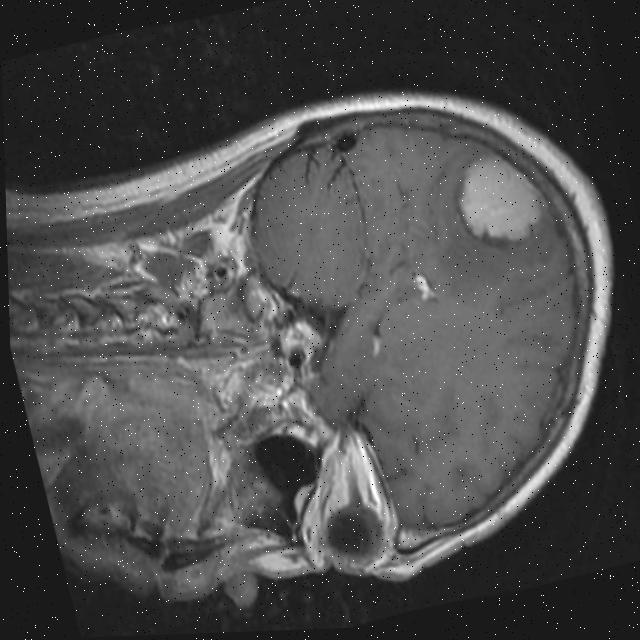Meningioma: (446, 144, 551, 257)
